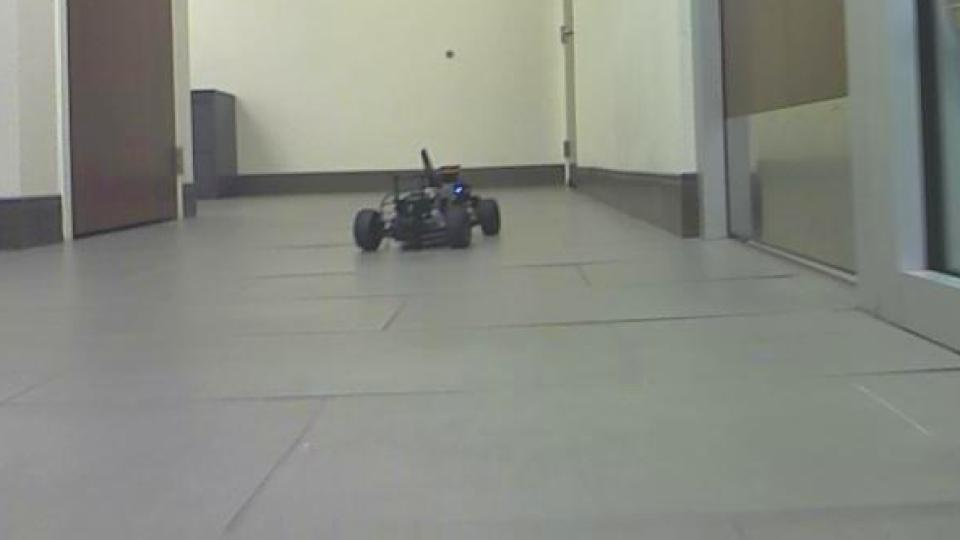car: (349, 145, 504, 257)
